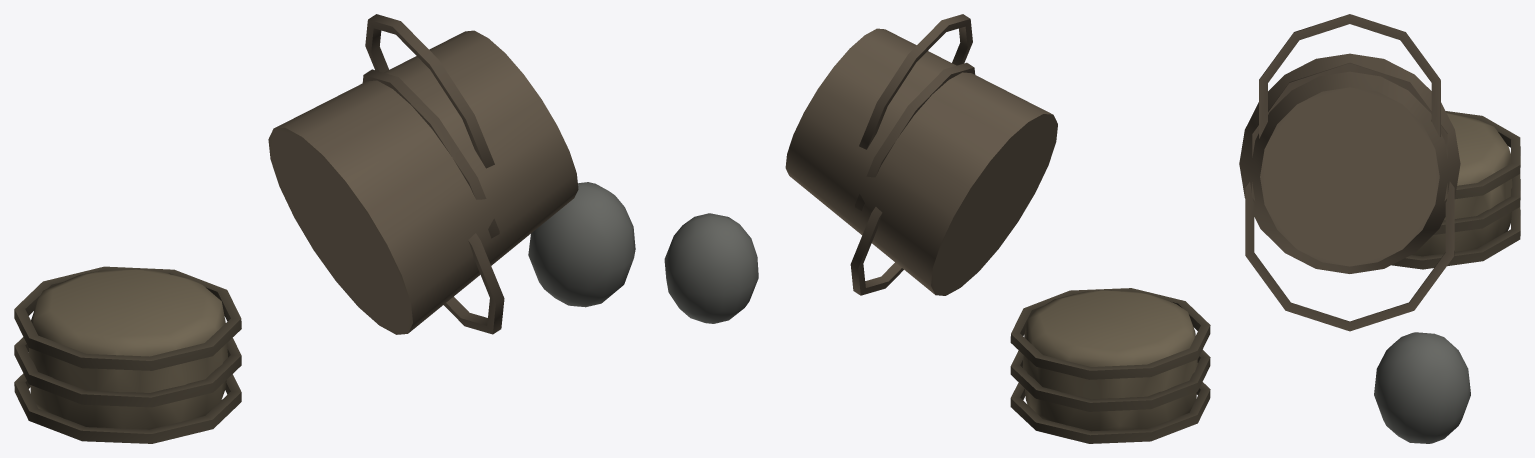
File: rope_basket_b_lod1.glb
3 renders of one model, left to right at view 1: azimuth 30°, elevation 25°; view 2: azimuth 150°, elevation 25°; view 3: azimuth 270°, elevation 25°, orthographic. The views are drawn at different scales.
Visible parts, largest first — view 1: Surface.001; view 2: Surface.001; view 3: Surface.001.
Part boxes in pixels (box(x1,y1,x2,y2)): Surface.001: box(14, 14, 635, 443); Surface.001: box(664, 14, 1210, 443); Surface.001: box(1239, 14, 1520, 443).
Size of the model in its own units: 1.72 by 1 by 0.7751.
